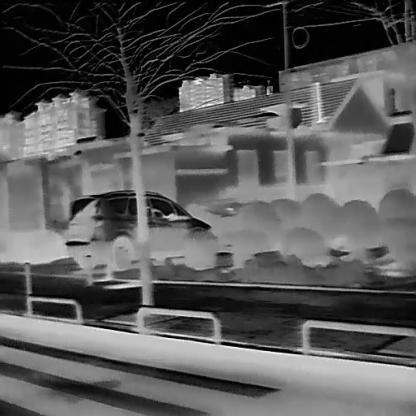car: (64, 189, 217, 271)
